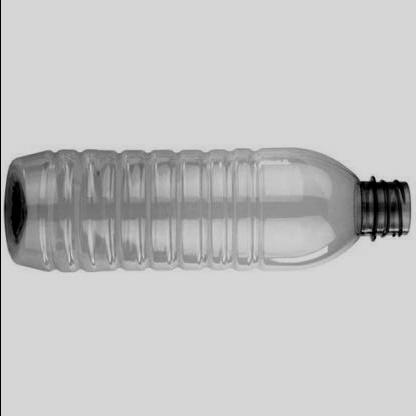bottle: (0, 137, 416, 289)
